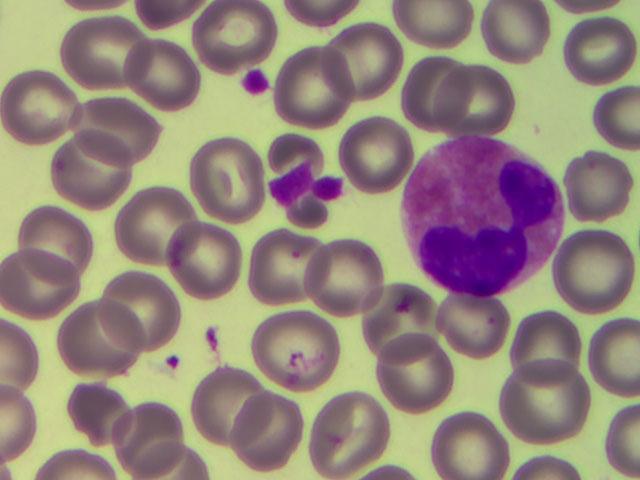Platelets: (266, 163, 313, 202), (239, 63, 273, 102), (315, 171, 345, 202)
RBC: (427, 394, 506, 480), (62, 9, 141, 94), (4, 59, 83, 144), (84, 86, 163, 171), (123, 37, 202, 122), (60, 124, 139, 209), (15, 193, 94, 278), (57, 301, 136, 386), (108, 268, 187, 353), (181, 220, 260, 305), (124, 183, 203, 268), (191, 138, 270, 223), (277, 44, 356, 129), (331, 19, 410, 104), (396, 43, 475, 128), (438, 50, 517, 135), (554, 11, 633, 96), (561, 137, 640, 222), (555, 229, 634, 314), (511, 308, 590, 393), (509, 360, 588, 445), (369, 336, 448, 421), (360, 270, 439, 355), (437, 276, 516, 361), (307, 233, 386, 318), (243, 224, 322, 309), (260, 307, 339, 392), (188, 360, 267, 445), (229, 390, 308, 475), (310, 387, 389, 472), (109, 393, 188, 478), (70, 375, 149, 460), (478, 1, 557, 85), (1, 245, 79, 330)
WBC: (401, 130, 558, 295)
